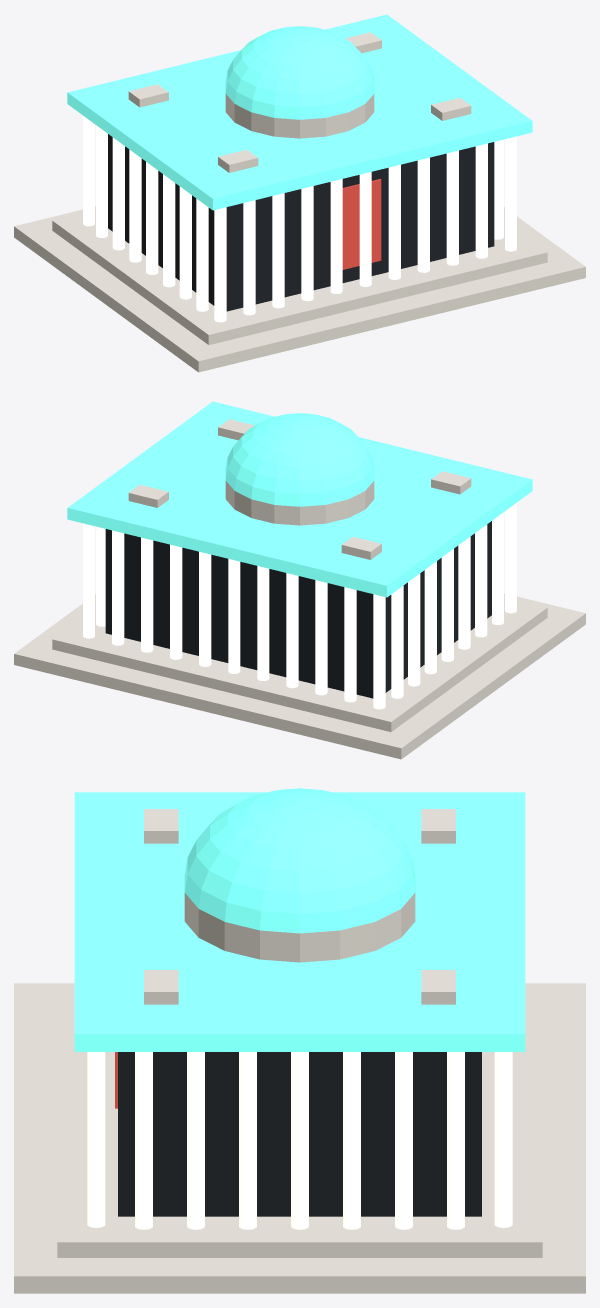
Rendered from landmark_assembly.glb.
3 views of the same model, one above another, from view 1: azimuth 30°, elevation 25°; view 2: azimuth 150°, elevation 25°; view 3: azimuth 270°, elevation 25° (orthographic). The views are drawn at different scales.
Visible parts, largest first — view 1: Assembly; view 2: Assembly; view 3: Assembly.
Boxes of the visible parts, <box> form: Assembly: <box>14,14,585,372</box>; Assembly: <box>14,401,585,759</box>; Assembly: <box>14,788,585,1293</box>.
Size of the model in its own units: 80 by 44 by 66.
